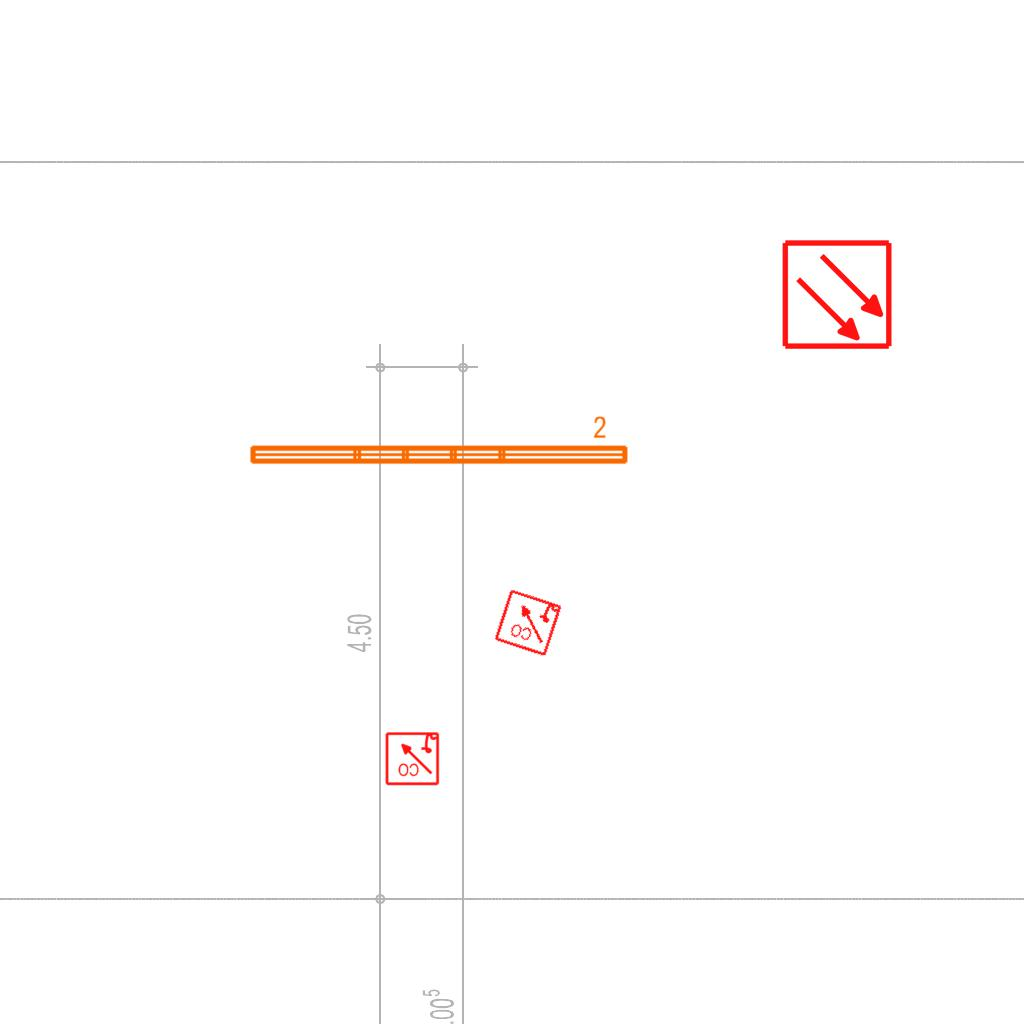Ambulanz_Pendelleuchte_LED: (245, 414, 632, 470)
RMO_Rauchmelder_optischer: (781, 238, 894, 351)
ROA_Rauchmelder_optisch_mit_Signalgeber_(Sockelsirene): (492, 586, 564, 658), (384, 730, 440, 786)
